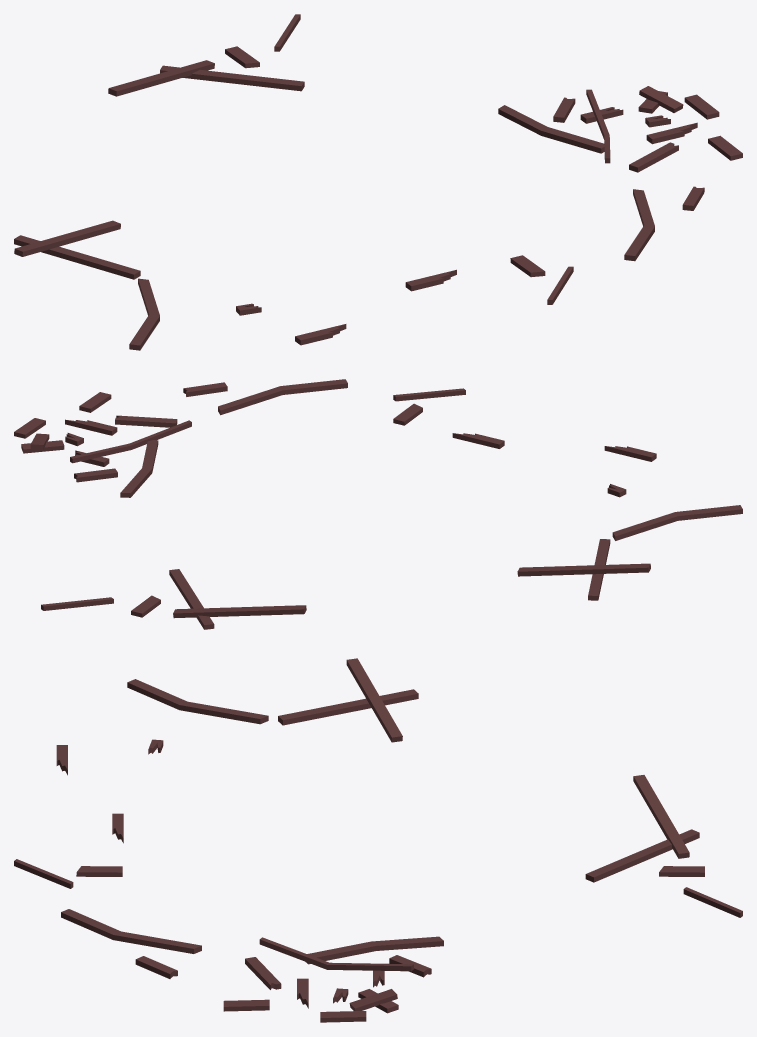
File: strick.fbx
The picture shows the model from 3 angles, top to bottom: view 1: azimuth 30°, elevation 25°; view 2: azimuth 150°, elevation 25°; view 3: azimuth 270°, elevation 25°; orthographic projection. The views are drawn at different scales.
Parts seen in each view (by area): view 1: polySurface406, polySurface387, polySurface398, polySurface397, polySurface407, polySurface396, polySurface386, polySurface392, polySurface390; view 2: polySurface396, polySurface386, polySurface397, polySurface407, polySurface390, polySurface387, polySurface406, polySurface398, polySurface392, polySurface405, polySurface399, polySurface393 (+3 smaller); view 3: polySurface396, polySurface386, polySurface398, polySurface387, polySurface397, polySurface406, polySurface390, polySurface407.
Part boxes in pixels (box(x1,y1,x2,y2)): polySurface406: box(160, 65, 304, 91); polySurface387: box(498, 105, 604, 153); polySurface398: box(14, 235, 140, 279); polySurface397: box(14, 220, 120, 256); polySurface407: box(108, 60, 214, 96); polySurface396: box(129, 278, 159, 350); polySurface386: box(624, 189, 654, 261); polySurface392: box(629, 142, 678, 172); polySurface390: box(586, 89, 610, 163); polySurface396: box(612, 505, 742, 540); polySurface386: box(218, 379, 347, 415); polySurface397: box(517, 563, 650, 576); polySurface407: box(173, 605, 306, 618); polySurface390: box(70, 420, 191, 463); polySurface387: box(120, 440, 158, 497); polySurface406: box(169, 569, 214, 629); polySurface398: box(588, 539, 610, 600); polySurface392: box(115, 415, 177, 427); polySurface405: box(41, 597, 113, 610); polySurface399: box(393, 388, 465, 401); polySurface393: box(65, 419, 117, 435); polySurface396: box(127, 679, 268, 724); polySurface386: box(61, 909, 201, 953); polySurface398: box(278, 689, 418, 725); polySurface387: box(306, 936, 443, 964); polySurface397: box(346, 658, 402, 742); polySurface406: box(585, 829, 699, 882); polySurface390: box(259, 937, 413, 971); polySurface407: box(633, 775, 689, 858).
Bounding box in the file's own units: 1479 × 49.83 × 1332.
